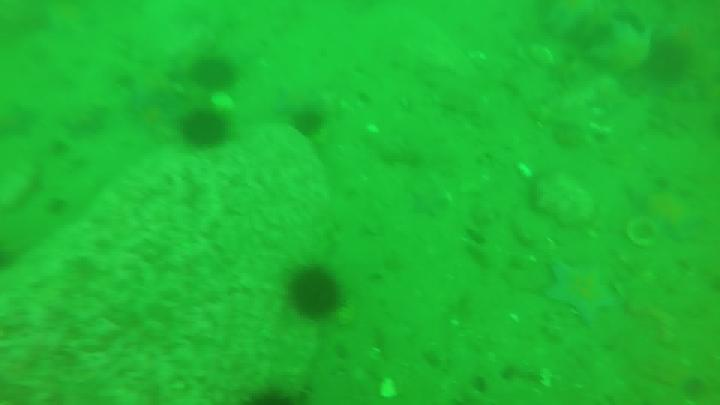echinus: (292, 262, 344, 321), (180, 109, 228, 149), (189, 57, 237, 88), (293, 108, 327, 137)
scallop: (625, 213, 661, 248)
starfish: (547, 261, 616, 324), (414, 191, 446, 217)
